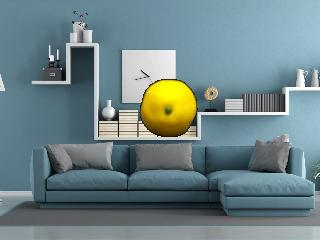lemon: (140, 79, 196, 136)
